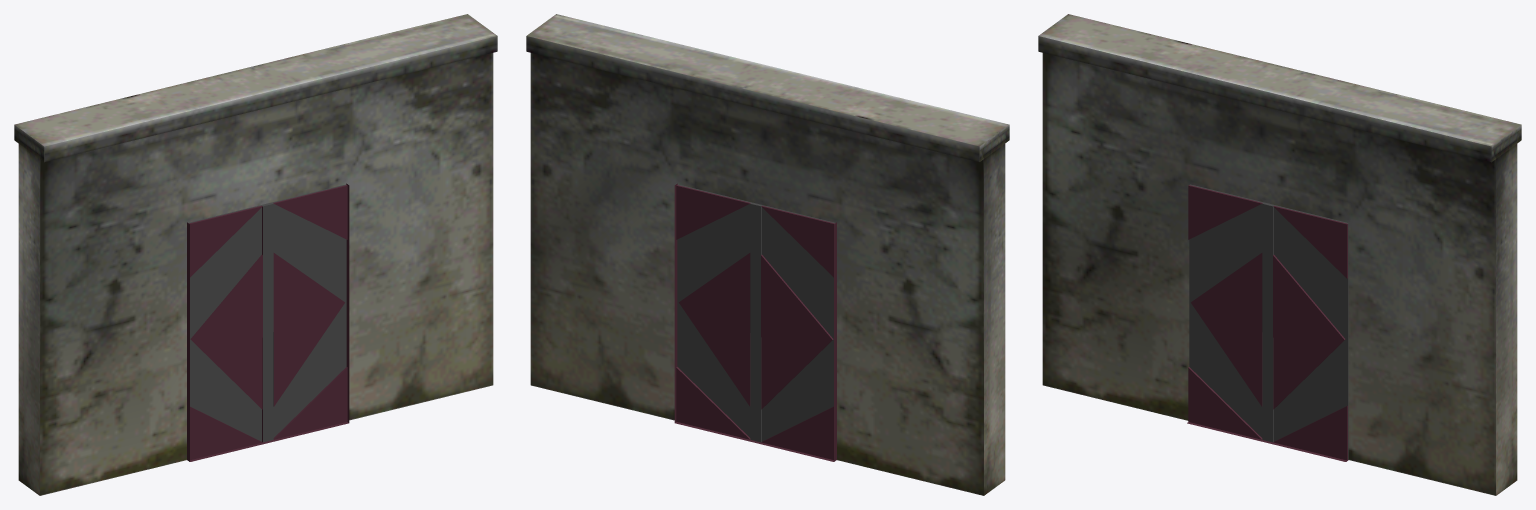
File: WallWithDoor.fbx
The picture shows the model from 3 angles, left to right: view 1: azimuth 30°, elevation 25°; view 2: azimuth 150°, elevation 25°; view 3: azimuth 330°, elevation 25°; orthographic projection.
Parts seen in each view (by area): view 1: Wall, Cube.002, Cube.001, Cube; view 2: Wall, Cube.002, Cube.001, Cube; view 3: Wall, Cube.002, Cube.001.
Part boxes in pixels (bbox=[...]): Wall: bbox=[14, 14, 497, 495]; Cube.002: bbox=[267, 184, 347, 440]; Cube.001: bbox=[188, 203, 268, 460]; Cube: bbox=[187, 183, 349, 461]; Wall: bbox=[526, 14, 1009, 495]; Cube.002: bbox=[676, 184, 756, 440]; Cube.001: bbox=[755, 204, 835, 459]; Cube: bbox=[674, 183, 836, 461]; Wall: bbox=[1038, 14, 1521, 495]; Cube.002: bbox=[1267, 203, 1348, 460]; Cube.001: bbox=[1188, 184, 1268, 440].
Bounding box in the file's own units: 403 × 299 × 46.22.
